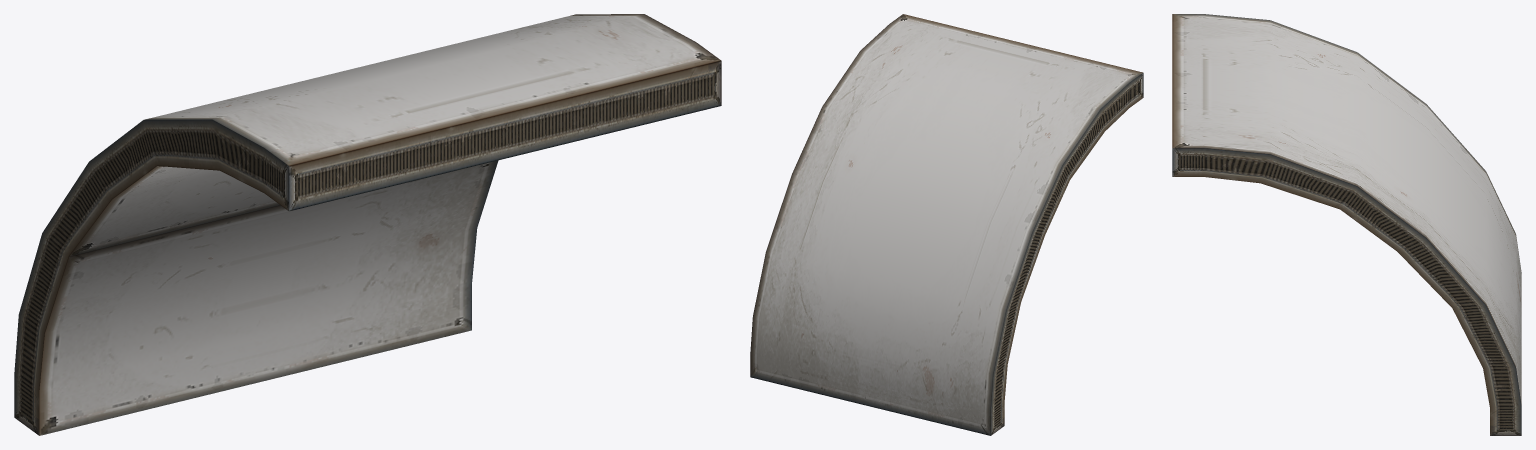
File: scifi_wall_top2_10.FBX
3 renders of one model, left to right at view 1: azimuth 30°, elevation 25°; view 2: azimuth 150°, elevation 25°; view 3: azimuth 270°, elevation 25°, orthographic. The views are drawn at different scales.
Parts seen in each view (by area): view 1: Plane331; view 2: Plane331; view 3: Plane331.
Boxes of the visible parts, x1,y1,x2,y2 form: Plane331: (14, 14, 721, 435); Plane331: (750, 14, 1143, 435); Plane331: (1172, 14, 1521, 435).
Size of the model in its own units: 254 by 254 by 279.
